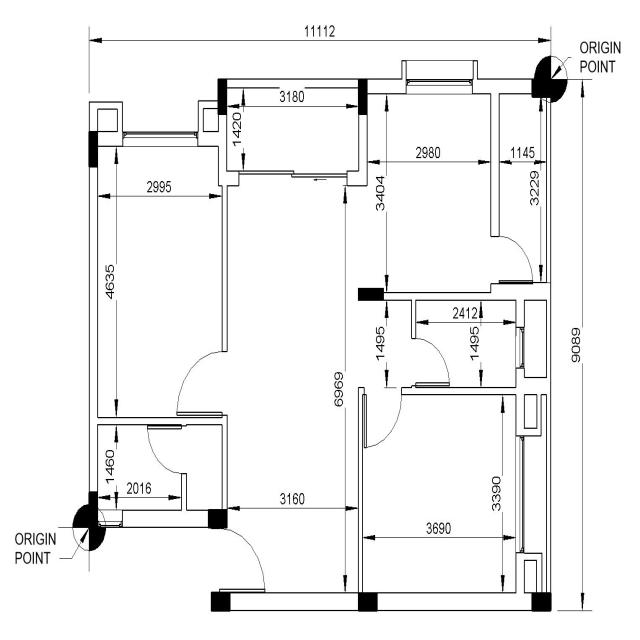Column: (532, 78, 552, 98), (532, 592, 552, 612), (358, 592, 378, 612), (210, 592, 230, 612), (208, 509, 227, 529), (358, 78, 368, 115), (358, 288, 384, 301), (89, 131, 98, 168), (89, 491, 98, 528), (218, 79, 227, 115)
Door: (176, 351, 228, 420), (219, 528, 266, 593), (362, 387, 402, 449), (490, 236, 534, 284), (146, 424, 187, 474), (411, 338, 450, 388)
Sliding Door: (238, 170, 348, 187)
Window: (122, 131, 199, 147), (406, 79, 472, 94), (516, 436, 524, 554), (515, 326, 525, 368), (98, 521, 123, 528)
